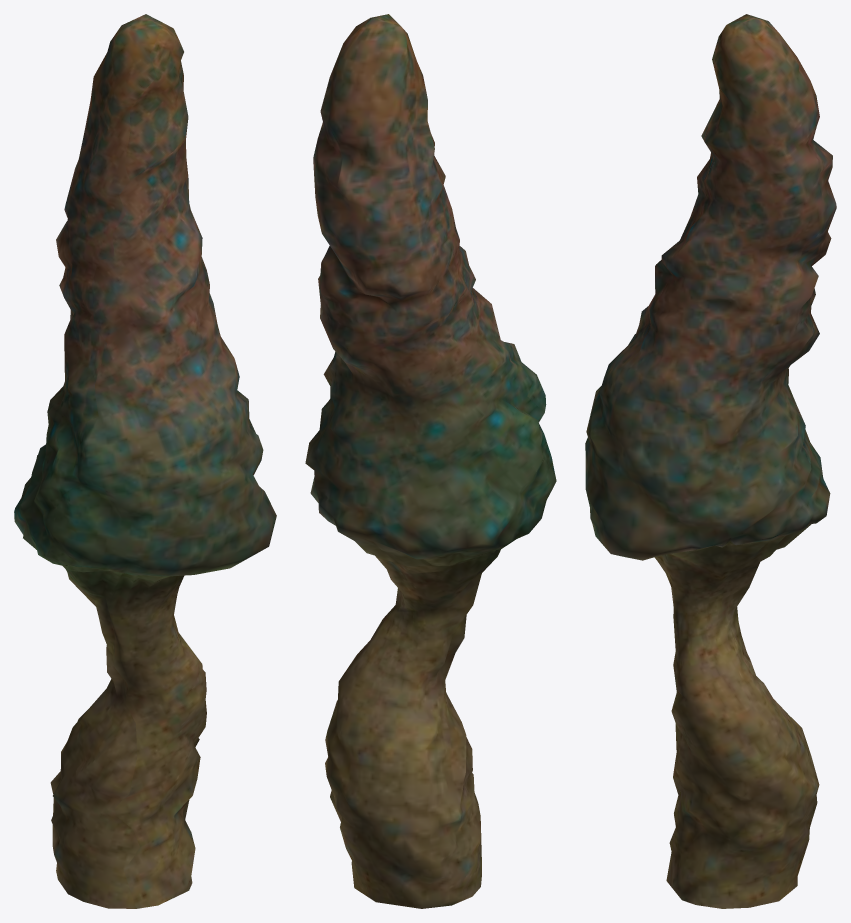
Rendered from Plant - Alien Shroom plant1 1-Cex9P2cB.glb.
3 renders of one model, left to right at view 1: azimuth 30°, elevation 25°; view 2: azimuth 150°, elevation 25°; view 3: azimuth 270°, elevation 25°, orthographic. The views are drawn at different scales.
Parts seen in each view (by area): view 1: Shroom_Plant1_L0(Clone); view 2: Shroom_Plant1_L0(Clone); view 3: Shroom_Plant1_L0(Clone).
Part boxes in pixels (x1,y1,x2,y2): Shroom_Plant1_L0(Clone): [14, 14, 276, 908]; Shroom_Plant1_L0(Clone): [305, 14, 556, 908]; Shroom_Plant1_L0(Clone): [585, 14, 836, 908].
Bounding box in the file's own units: 1.43 × 5.52 × 1.43.
Materials: 1 (1 with a texture image).
